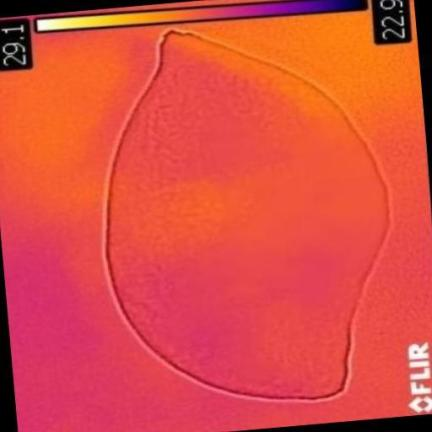mango: (107, 34, 385, 400)
